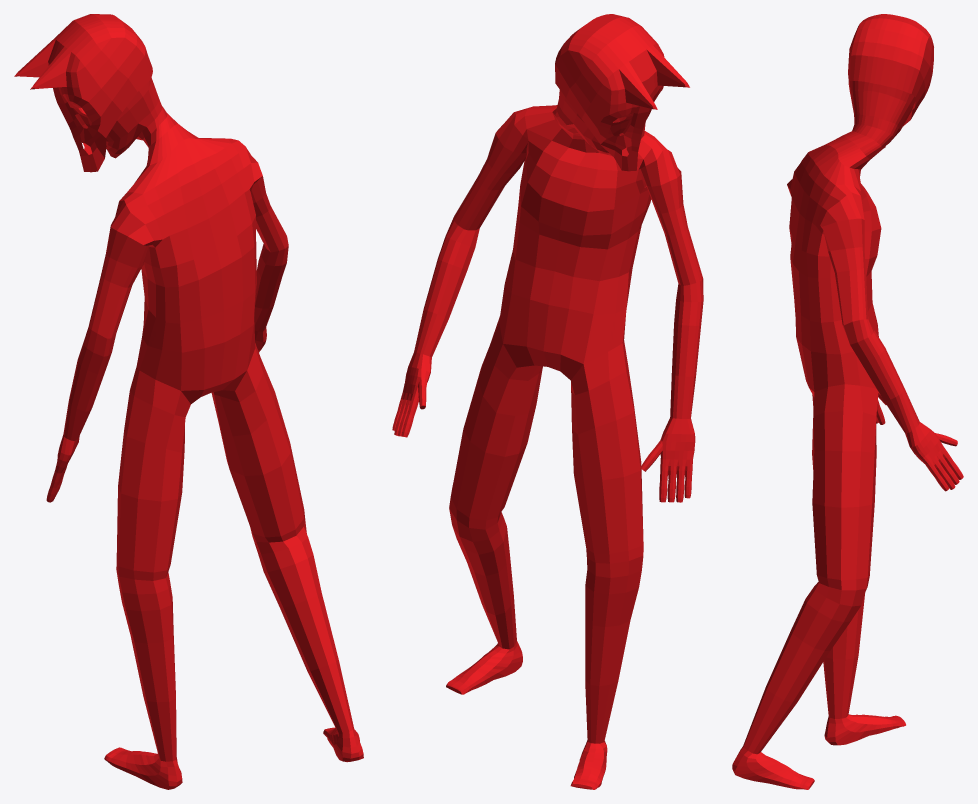
Rendered from reposoE_000243.obj.
3 renders of one model, left to right at view 1: azimuth 30°, elevation 25°; view 2: azimuth 150°, elevation 25°; view 3: azimuth 270°, elevation 25°, orthographic. The views are drawn at different scales.
Parts seen in each view (by area): view 1: Plane.002_Plane.001; view 2: Plane.002_Plane.001; view 3: Plane.002_Plane.001.
Part boxes in pixels (<box>): Plane.002_Plane.001: <box>14,14,363,789</box>; Plane.002_Plane.001: <box>392,14,703,789</box>; Plane.002_Plane.001: <box>732,14,963,789</box>.
Size of the model in its own units: 2.69 by 7 by 2.08.
